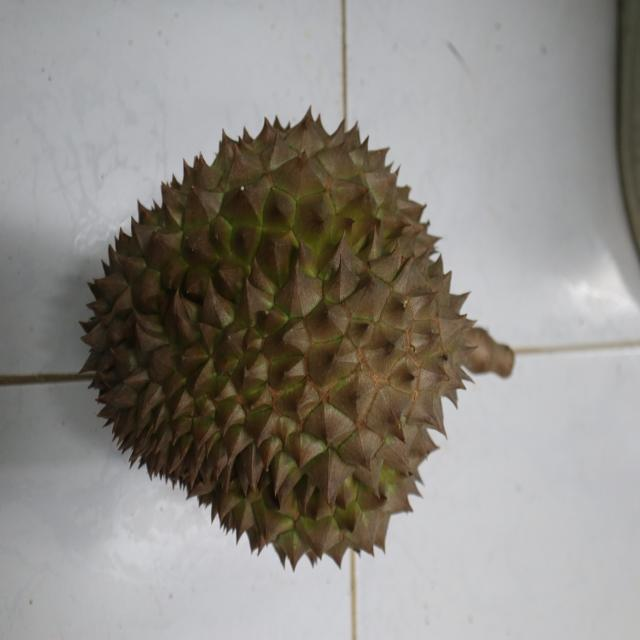mature: (80, 104, 474, 574)
